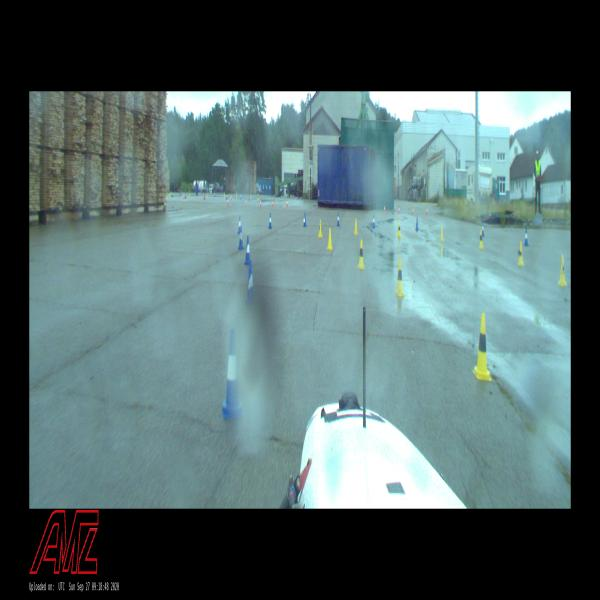blue_cone: (223, 328, 240, 413), (246, 262, 253, 305), (245, 236, 250, 265), (238, 228, 244, 248), (524, 228, 529, 245), (336, 213, 340, 224), (269, 214, 272, 228), (372, 215, 375, 228), (238, 216, 240, 232), (416, 217, 418, 231), (304, 213, 306, 226), (482, 223, 484, 236)
orange_cone: (245, 198, 247, 206), (286, 199, 288, 207), (412, 208, 414, 215), (398, 207, 400, 214), (260, 199, 262, 206), (384, 205, 386, 212), (426, 208, 428, 215), (272, 200, 274, 206), (203, 194, 205, 199), (227, 198, 228, 205), (231, 195, 232, 201)
yellow_cone: (473, 314, 492, 381), (395, 259, 405, 296), (558, 256, 566, 286), (358, 240, 365, 269), (518, 242, 524, 266), (328, 229, 332, 250), (479, 230, 483, 248), (354, 219, 358, 235), (318, 220, 322, 235), (397, 222, 401, 236), (440, 226, 443, 241), (257, 194, 259, 201)
